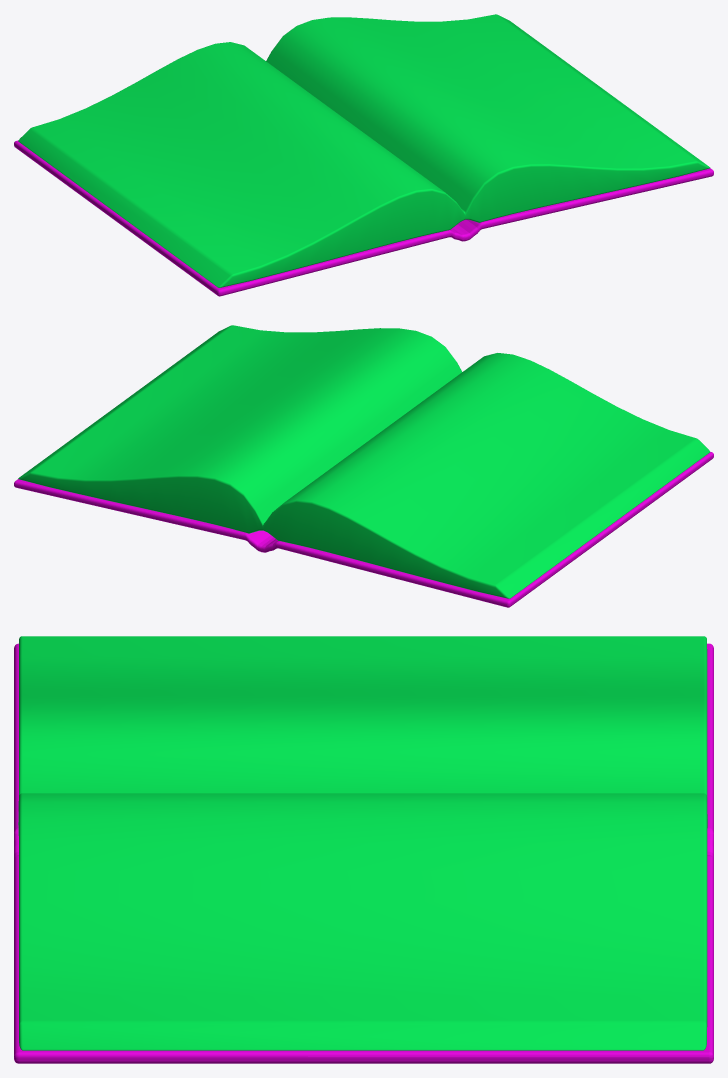
File: Open-Book.fbx
The picture shows the model from 3 angles, top to bottom: view 1: azimuth 30°, elevation 25°; view 2: azimuth 150°, elevation 25°; view 3: azimuth 270°, elevation 25°; orthographic projection. The views are drawn at different scales.
Parts seen in each view (by area): view 1: Book-Cover, Pages; view 2: Book-Cover, Pages; view 3: Book-Cover, Pages.
Boxes of the visible parts, <box> form: Book-Cover: <box>18,14,710,287</box>; Pages: <box>14,140,713,296</box>; Book-Cover: <box>18,325,709,598</box>; Pages: <box>14,452,713,607</box>; Book-Cover: <box>18,636,707,1050</box>; Pages: <box>14,643,713,1063</box>.
Size of the model in its own units: 427 by 50.62 by 307.
